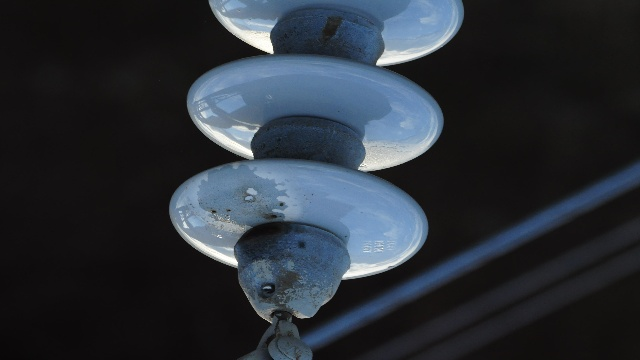insulator_unspecified: (169, 0, 463, 281)
pollution_flashover_local: (196, 164, 288, 231)
